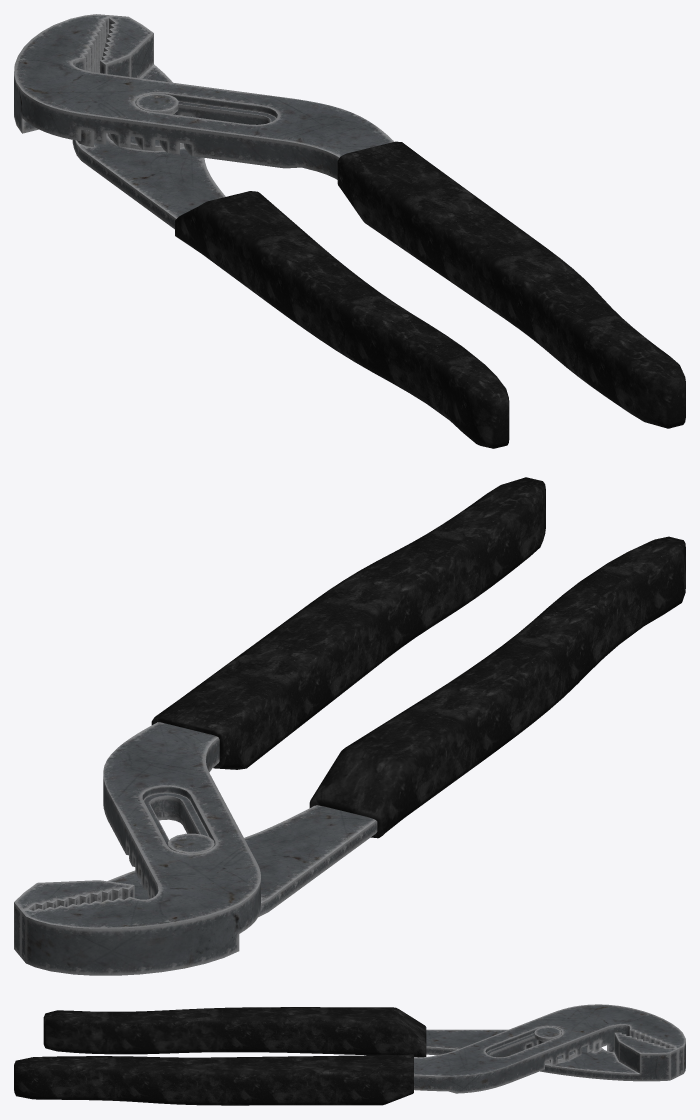
The model's file is tongue_groove_pliers.glb.
3 views of the same model, one above another, from view 1: azimuth 30°, elevation 25°; view 2: azimuth 150°, elevation 25°; view 3: azimuth 270°, elevation 25° (orthographic). The views are drawn at different scales.
Visible parts, largest first — view 1: tongue_groove_pliers_r, tongue_groove_pliers_l; view 2: tongue_groove_pliers_r, tongue_groove_pliers_l; view 3: tongue_groove_pliers_r, tongue_groove_pliers_l.
Part boxes in pixels (x1,y1,x2,y2): tongue_groove_pliers_r: (14, 14, 685, 428); tongue_groove_pliers_l: (72, 15, 509, 448); tongue_groove_pliers_r: (21, 477, 545, 975); tongue_groove_pliers_l: (14, 536, 685, 956); tongue_groove_pliers_r: (14, 1004, 685, 1105); tongue_groove_pliers_l: (43, 1007, 677, 1081).
Bounding box in the file's own units: 0.0625 × 0.0139 × 0.2444.
1 material, 1 textured.
